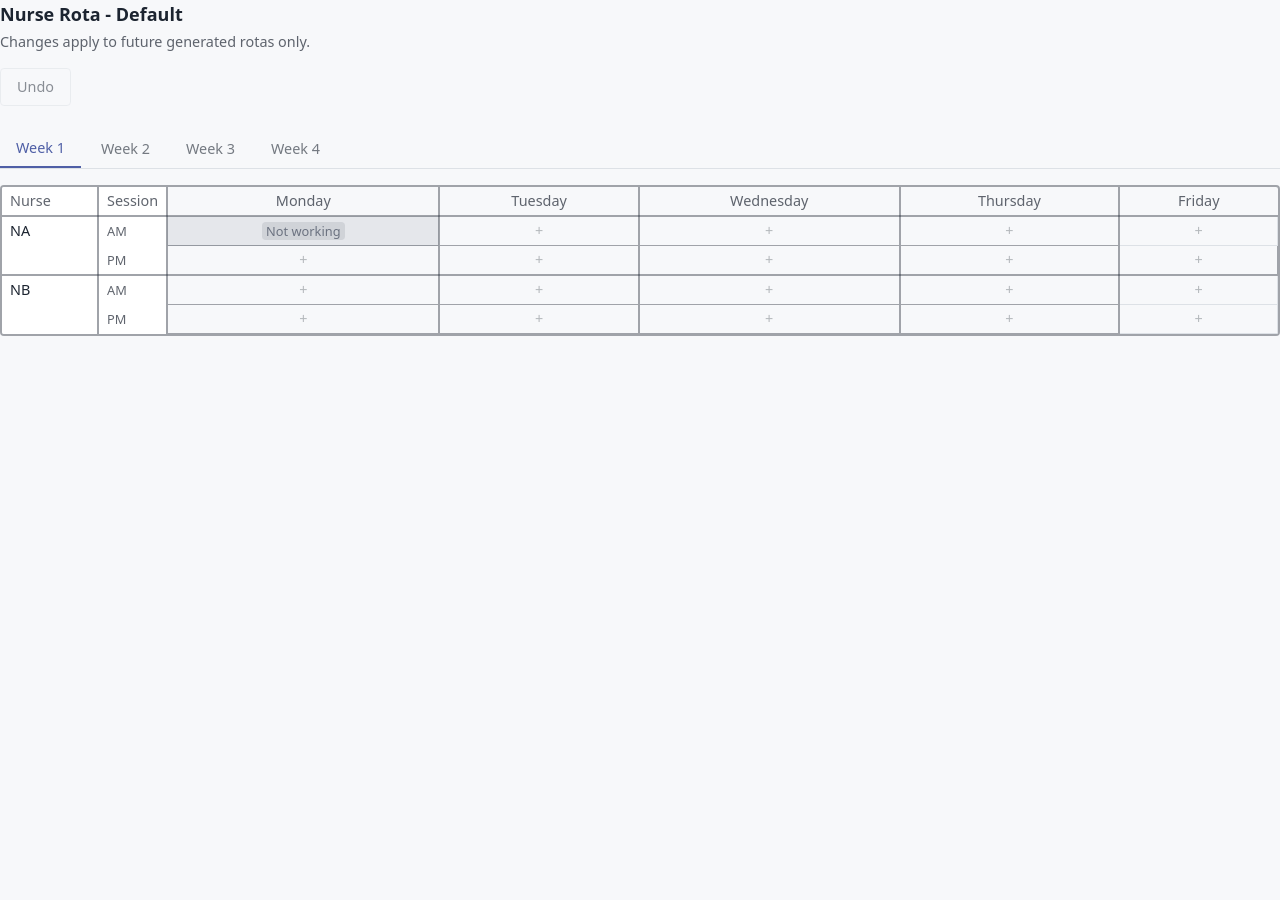
Scenario: NurseRotaPage: undo › re-pushes the entry and says so when a replay step fails
Click the element showing "Not working". click: (303, 231)
box: x1=262 y1=222 x2=344 y2=240
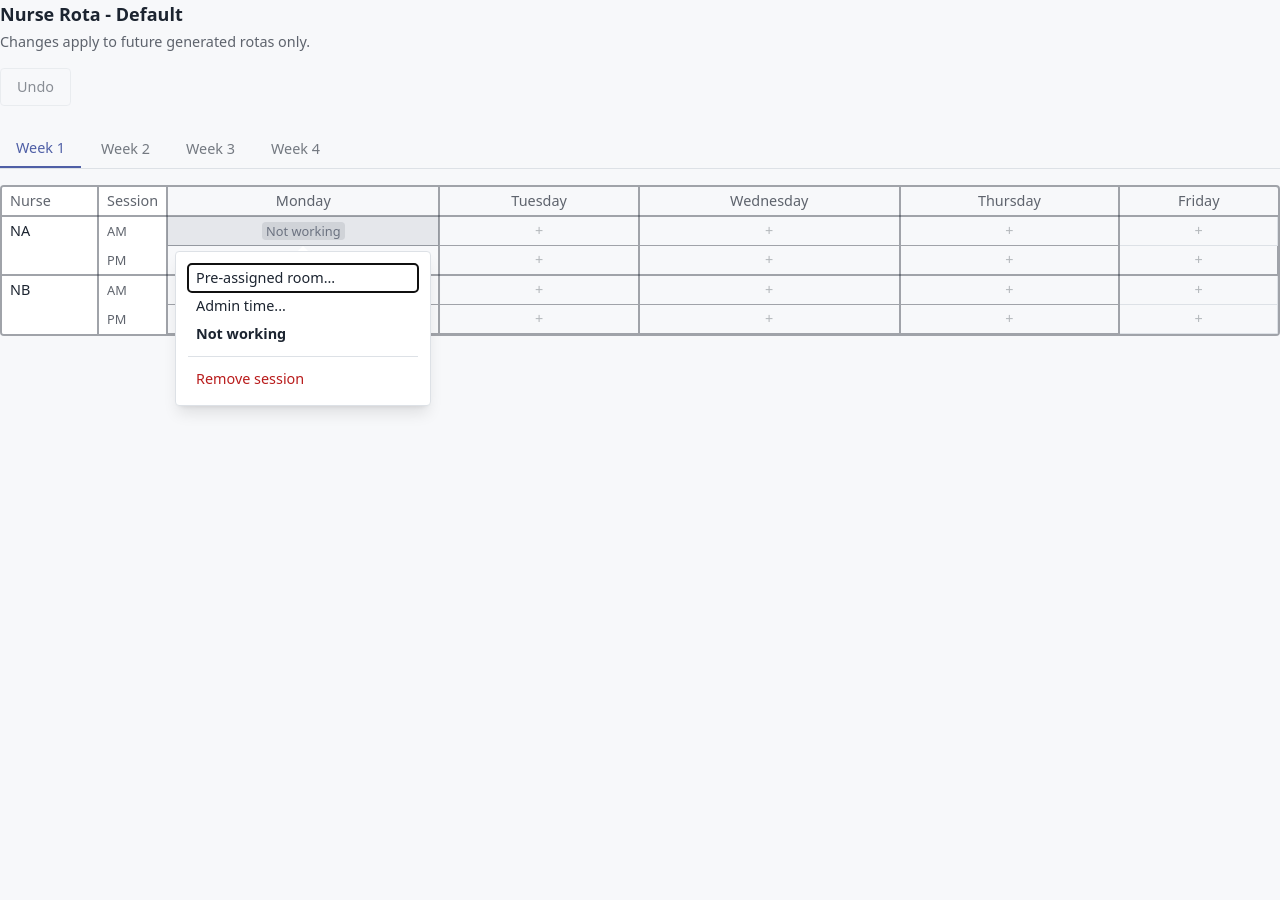
Click the button "Admin time...". click: (303, 306)
box: x1=188 y1=292 x2=418 y2=320
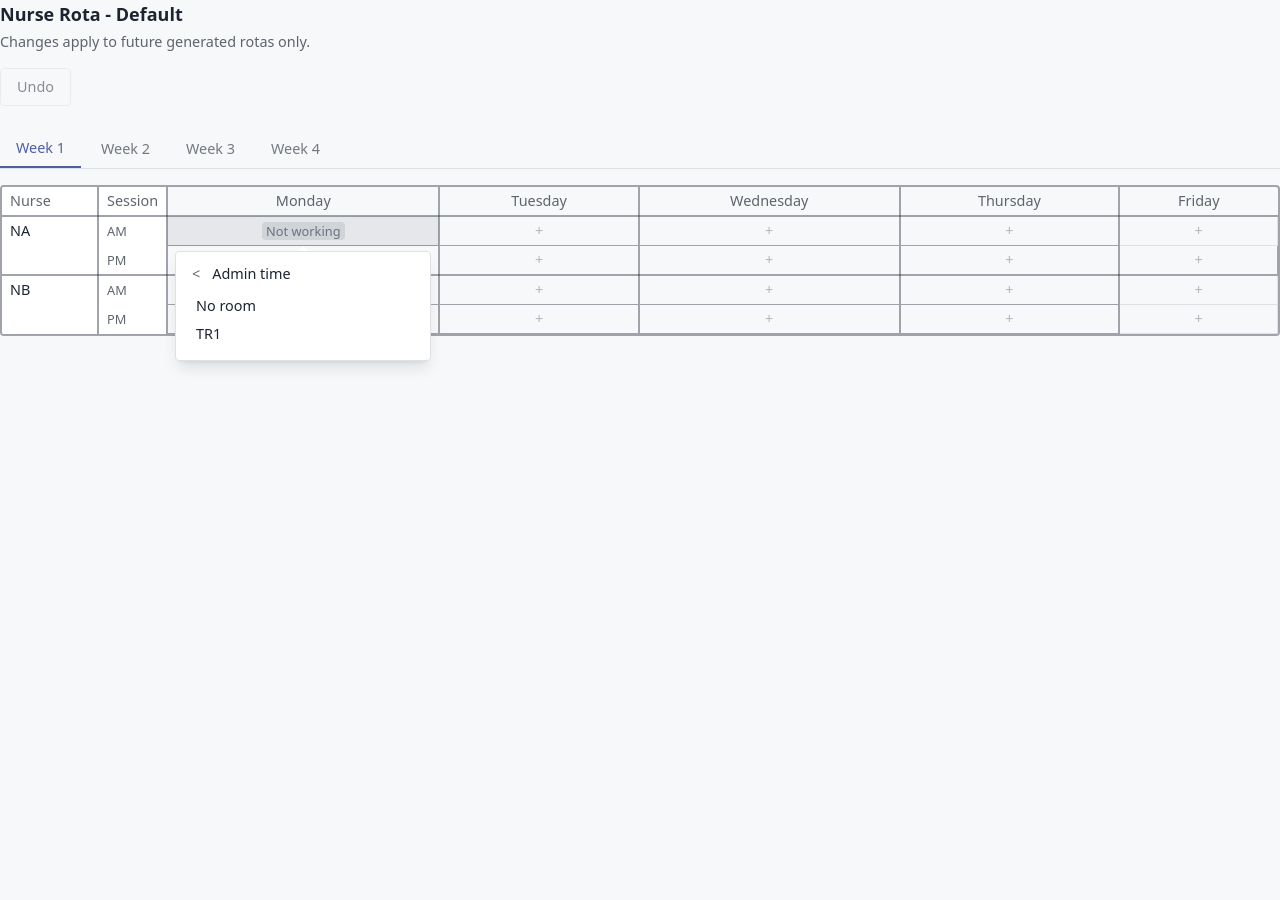
Click the button "No room". click: (303, 306)
box: x1=188 y1=292 x2=418 y2=320
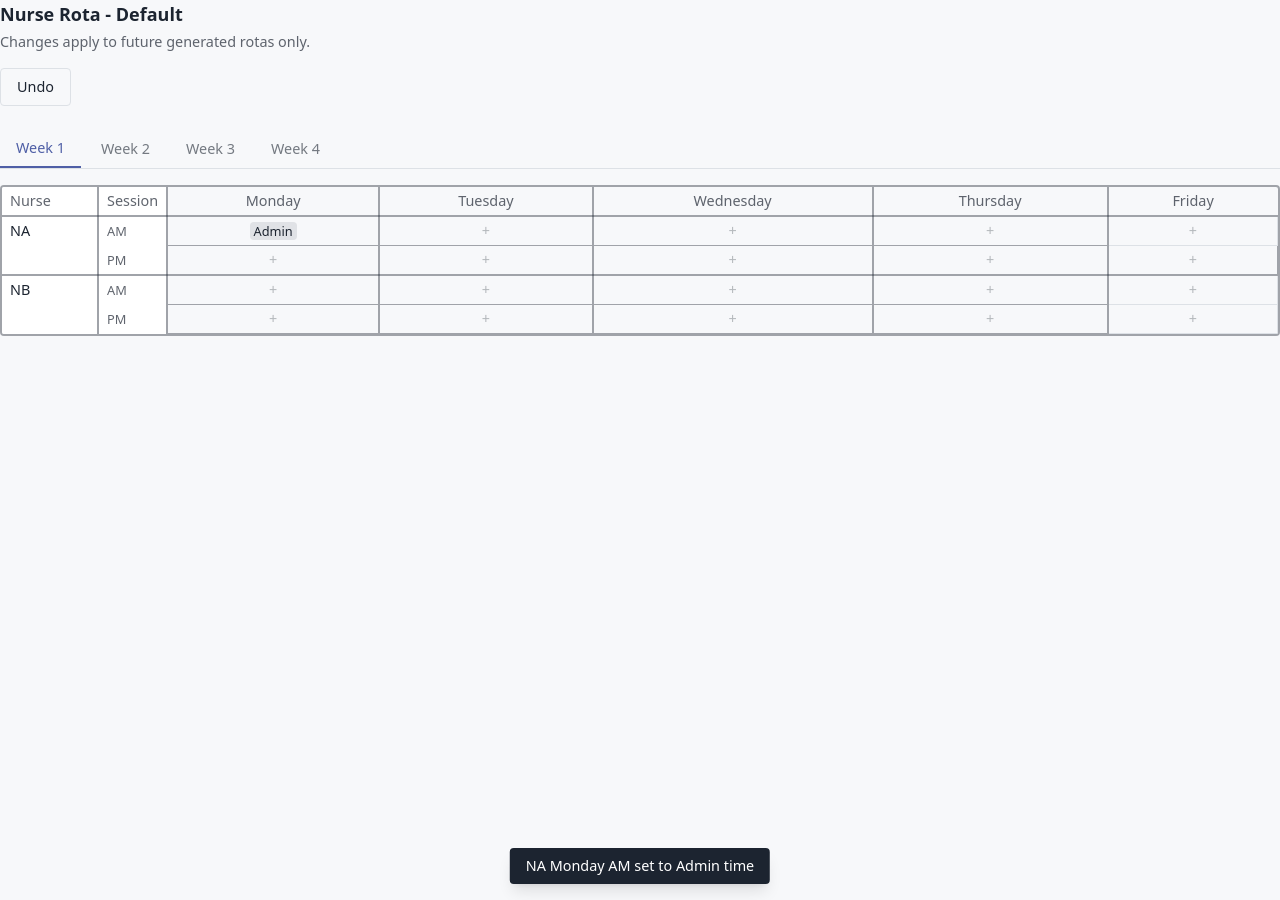
Now the text "NA Monday AM set to Admin time" is shown, box x1=510 y1=848 x2=770 y2=884
Click the button "Undo". click: (36, 87)
box: x1=0 y1=68 x2=71 y2=106
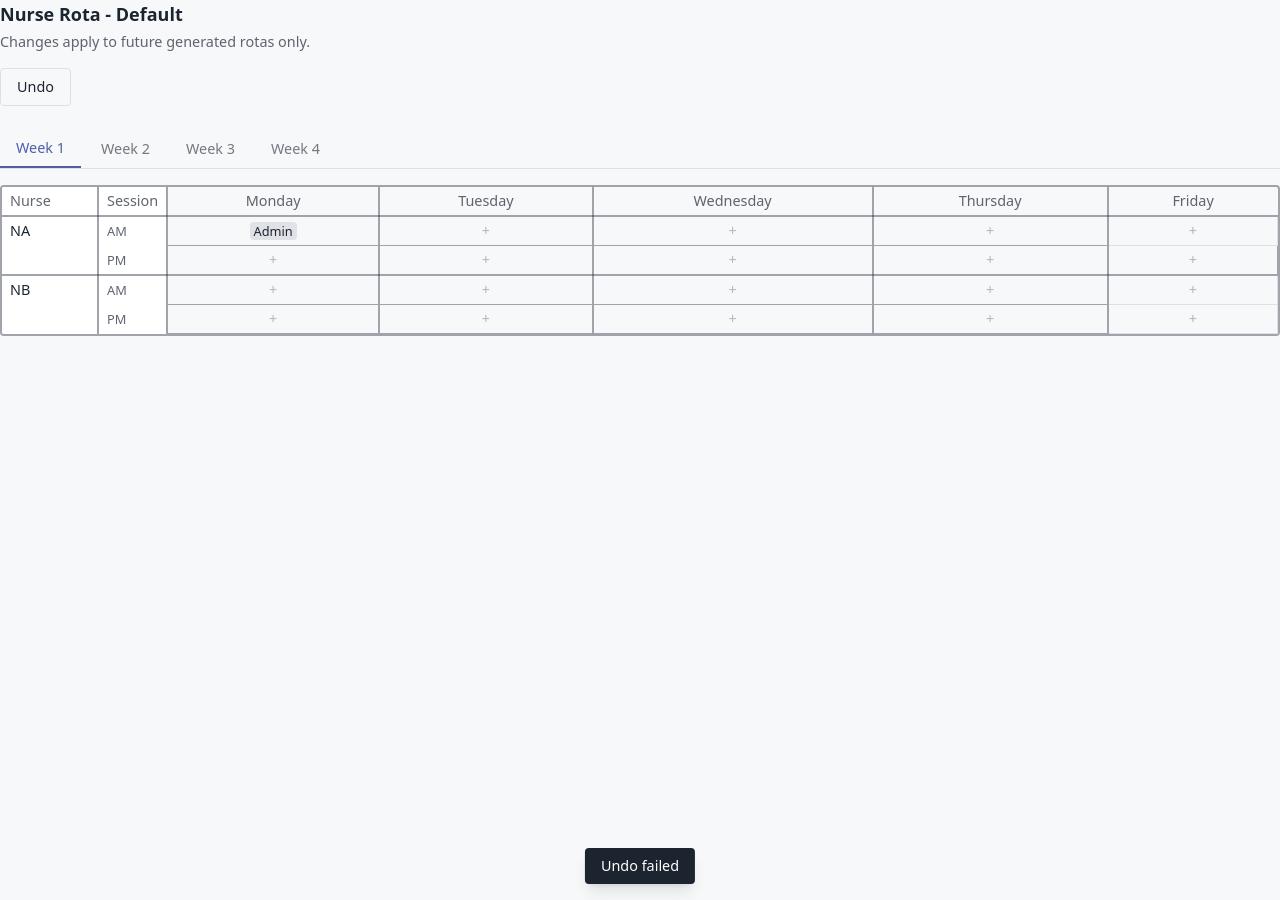
Now the button "Undo" is enabled, box x1=0 y1=68 x2=71 y2=106
Now the text "Undo failed" is shown, box x1=585 y1=848 x2=695 y2=884
